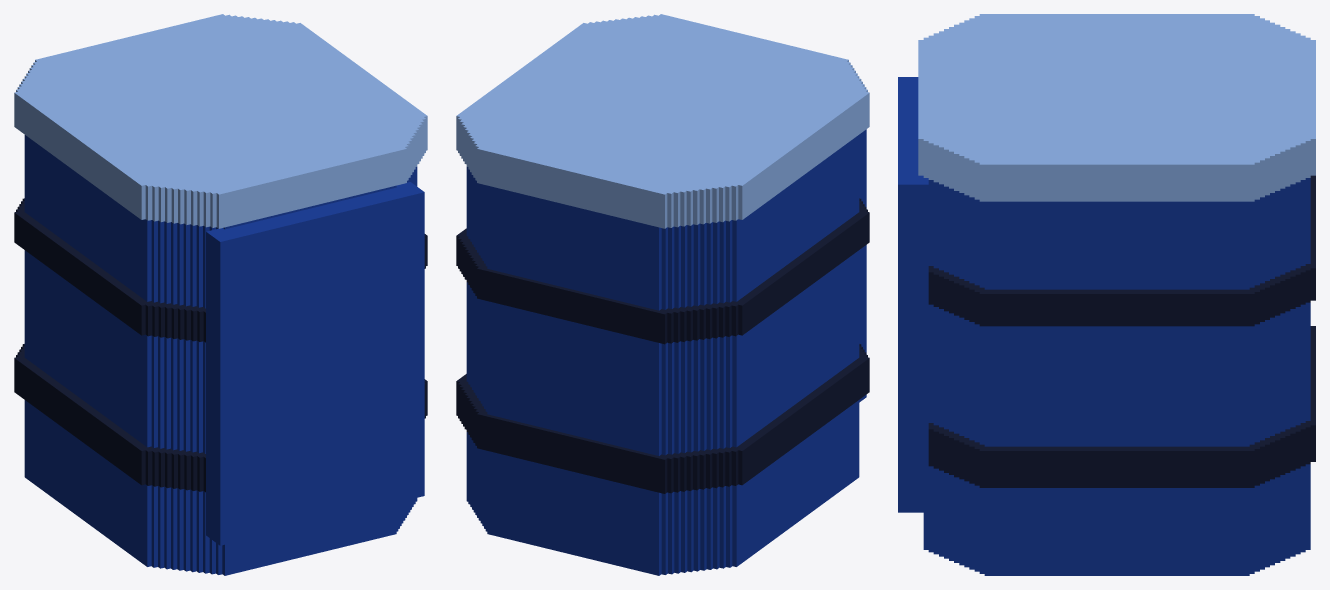
Rendered from legguard_heavy_worn_thigh.glb.
3 views of the same model, side by side, from view 1: azimuth 30°, elevation 25°; view 2: azimuth 150°, elevation 25°; view 3: azimuth 270°, elevation 25° (orthographic). The views are drawn at different scales.
Visible parts, largest first — view 1: legguard_heavy_worn_thigh:compound; view 2: legguard_heavy_worn_thigh:compound; view 3: legguard_heavy_worn_thigh:compound.
Boxes of the visible parts, bbox=[...] form: legguard_heavy_worn_thigh:compound: bbox=[14, 14, 427, 575]; legguard_heavy_worn_thigh:compound: bbox=[456, 14, 869, 575]; legguard_heavy_worn_thigh:compound: bbox=[898, 14, 1315, 575].
Bounding box in the file's own units: 0.28 × 0.36 × 0.328.
